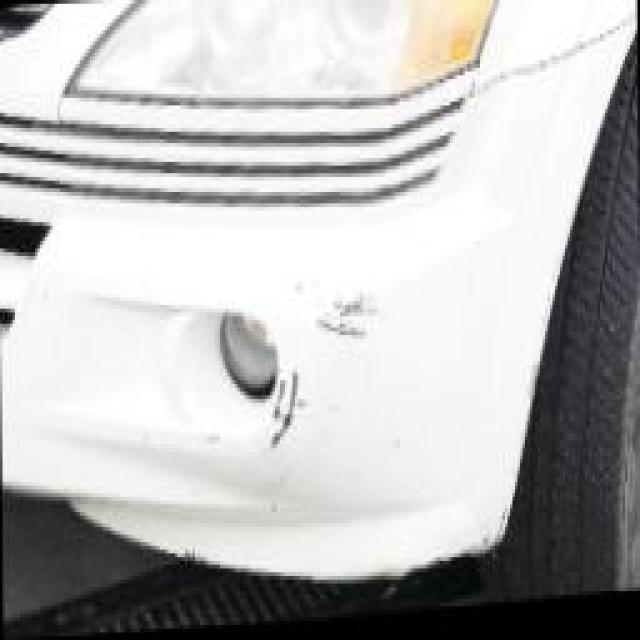Bumper: (259, 214, 402, 487)
